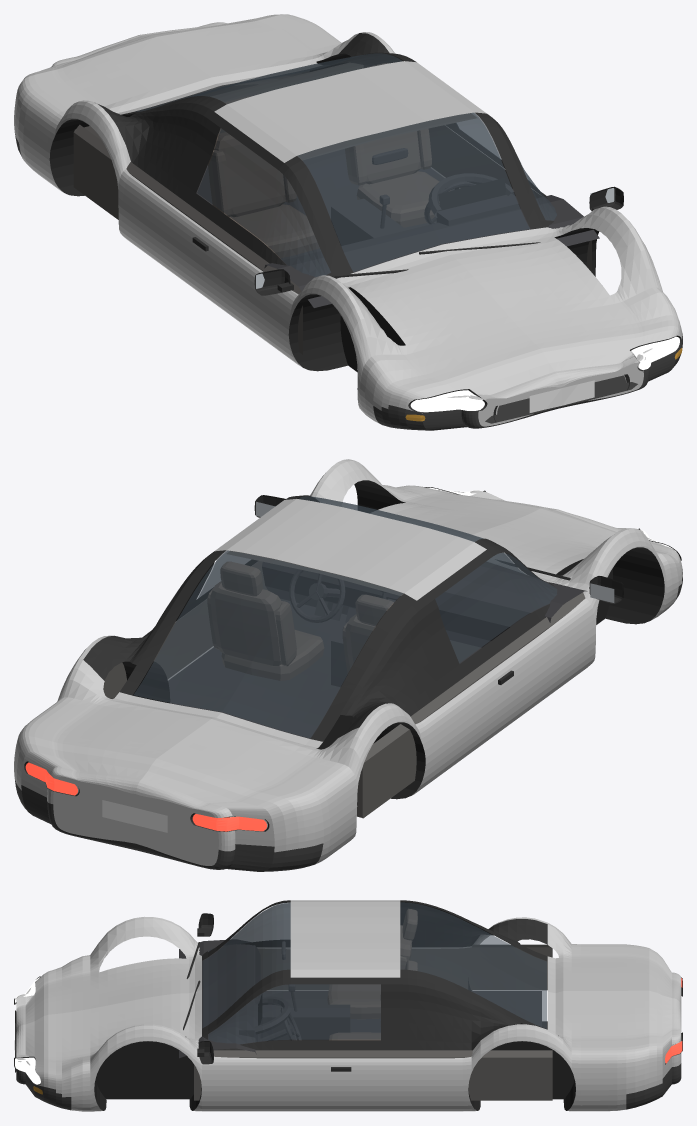
Rendered from car_halo.fbx.
The picture shows the model from 3 angles, top to bottom: view 1: azimuth 30°, elevation 25°; view 2: azimuth 150°, elevation 25°; view 3: azimuth 270°, elevation 25°; orthographic projection. The views are drawn at different scales.
Parts seen in each view (by area): view 1: halo__hood, halo__glass, halo__trunk, halo__interior, halo__roof, halo__seats, halo__pillars, halo__cabin, halo__quarterR, halo__doorR, halo__wells, halo__fenderFR (+10 smaller); view 2: halo__glass, halo__trunk, halo__interior, halo__pillars, halo__roof, halo__hood, halo__quarterR, halo__seats, halo__cabin, halo__doorR, halo__rearPanel, halo__wells (+8 smaller); view 3: halo__glass, halo__hood, halo__trunk, halo__cabin, halo__pillars, halo__quarterL, halo__interior, halo__doorL, halo__roof, halo__wells, halo__fenderFL, halo__seals (+8 smaller).
Part boxes in pixels (box(x1,y1,x2,y2)): halo__hood: box(342, 207, 668, 400); halo__glass: box(135, 53, 556, 276); halo__trunk: box(28, 14, 572, 286); halo__interior: box(196, 148, 599, 307); halo__roof: box(214, 61, 486, 162); halo__seats: box(208, 63, 450, 258); halo__pillars: box(107, 39, 553, 278); halo__cabin: box(73, 62, 591, 354); halo__quarterR: box(14, 74, 182, 279); halo__doorR: box(174, 213, 298, 363); halo__wells: box(49, 53, 599, 372); halo__fenderFR: box(288, 275, 470, 423); halo__glass: box(134, 496, 557, 737); halo__trunk: box(28, 559, 588, 814); halo__interior: box(168, 562, 587, 738); halo__pillars: box(90, 495, 554, 741); halo__roof: box(214, 499, 486, 600); halo__hood: box(316, 460, 668, 578); halo__quarterR: box(226, 684, 481, 864); halo__seats: box(207, 561, 393, 680); halo__cabin: box(103, 550, 585, 818); halo__doorR: box(472, 598, 595, 750); halo__rearPanel: box(47, 767, 235, 865); halo__wells: box(122, 480, 664, 799); halo__glass: box(202, 902, 546, 1044); halo__hood: box(16, 919, 189, 1071); halo__trunk: box(189, 924, 681, 1050); halo__cabin: box(194, 944, 552, 1100); halo__pillars: box(202, 900, 547, 1042); halo__quarterL: box(381, 1024, 671, 1111); halo__interior: box(179, 940, 541, 1058); halo__doorL: box(202, 1056, 380, 1111); halo__roof: box(290, 900, 400, 977); halo__wells: box(94, 978, 575, 1110); halo__fenderFL: box(26, 1024, 201, 1111); halo__seals: box(213, 919, 547, 1050).
Bounding box in the file's own units: 2.42 × 1.03 × 4.92.
